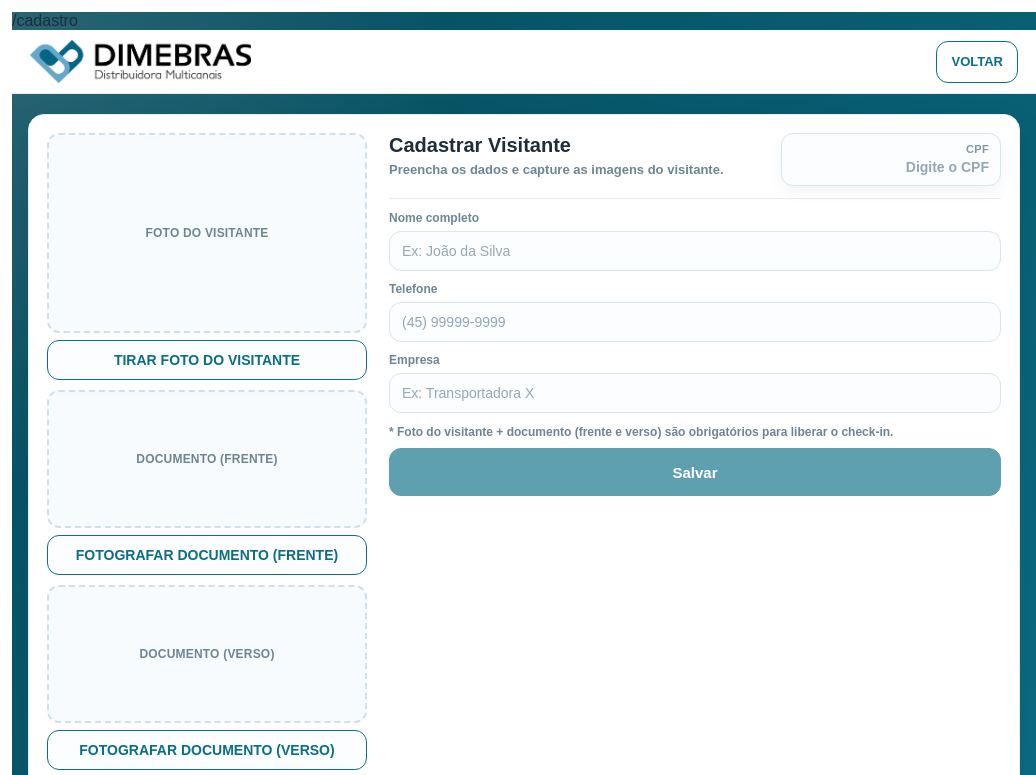
Test: CadastroVisitante CPF feedback › mostra mensagem de CPF obrigatorio apos tentativa de envio
Click the field labelled "CPF" at (891, 167), box [793,159,989,175]
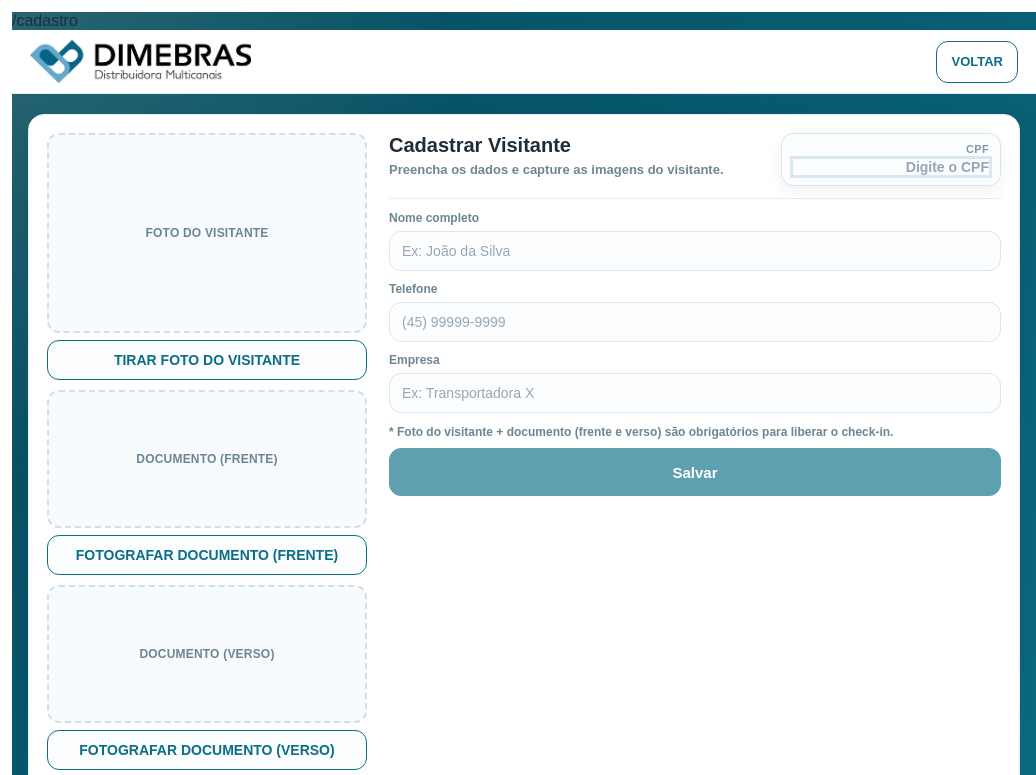
Press Enter
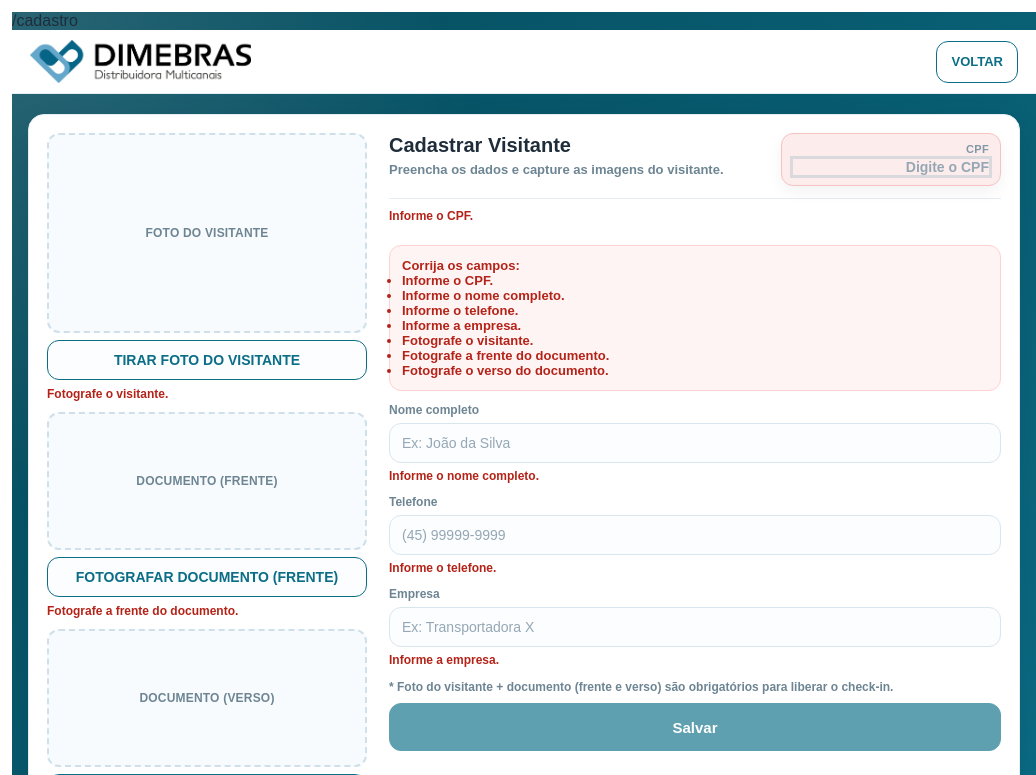
Now the text "Informe o CPF." is shown 2 times, box [389,209,473,223]; [402,273,493,288]
